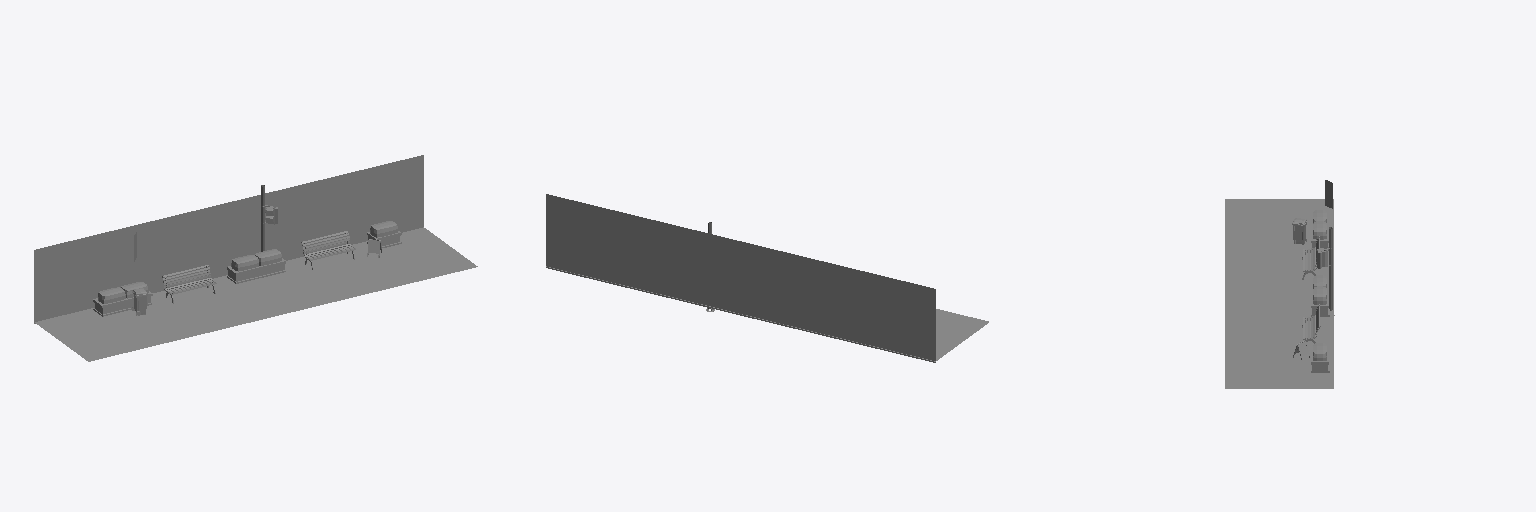
File: escenario3.obj
3 views of the same model, side by side, from view 1: azimuth 30°, elevation 25°; view 2: azimuth 150°, elevation 25°; view 3: azimuth 270°, elevation 25° (orthographic).
Parts seen in each view (by area): view 1: pPlane6, pPlane7, Box018, Box017, pCube1, pCube2; view 2: pPlane6, pPlane7; view 3: pPlane7.
Boxes of the visible parts, box(x1,y1,x2,y2) form: pPlane6: box(34, 155, 423, 323); pPlane7: box(35, 227, 477, 361); Box018: box(162, 265, 216, 303); Box017: box(301, 231, 355, 269); pCube1: box(227, 258, 285, 283); pCube2: box(93, 291, 152, 316); pPlane6: box(546, 194, 935, 362); pPlane7: box(546, 266, 988, 361); pPlane7: box(1225, 199, 1333, 388).
Bounding box in the file's own units: 107 × 22.88 × 26.01.